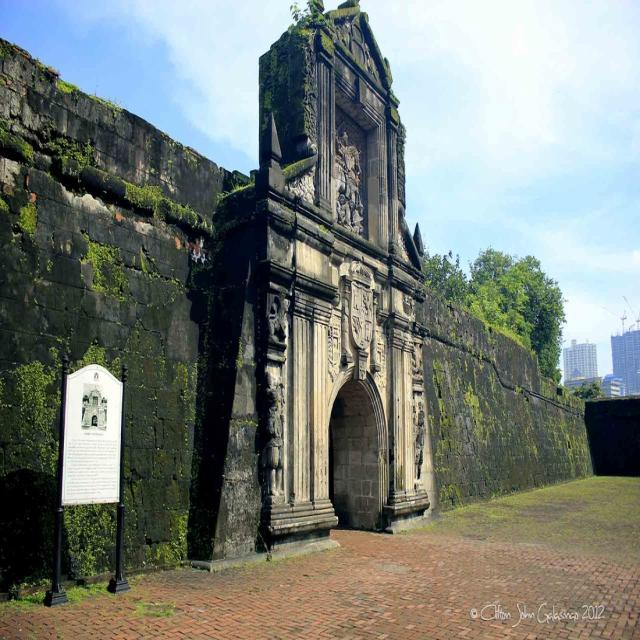Fort Santiago: (1, 0, 593, 622)
